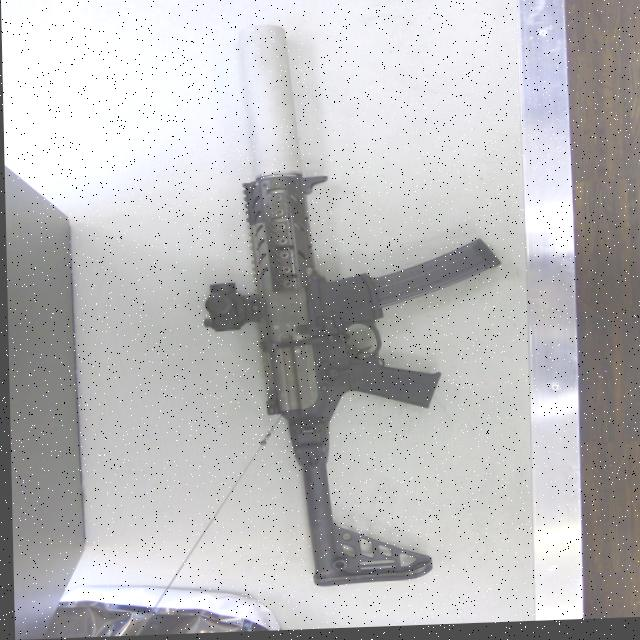firearm: (190, 16, 505, 596)
